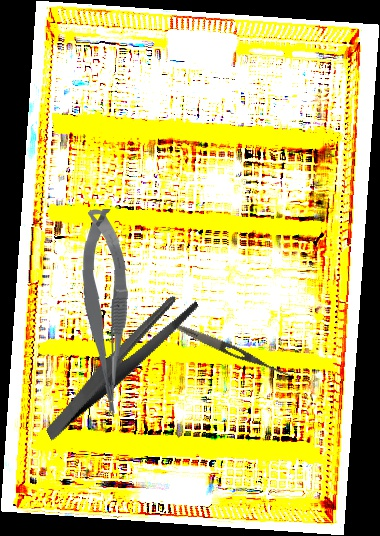Dressing Forceps: (18, 286, 222, 442), (171, 320, 294, 381)
Micro Scissor: (75, 208, 133, 418)
